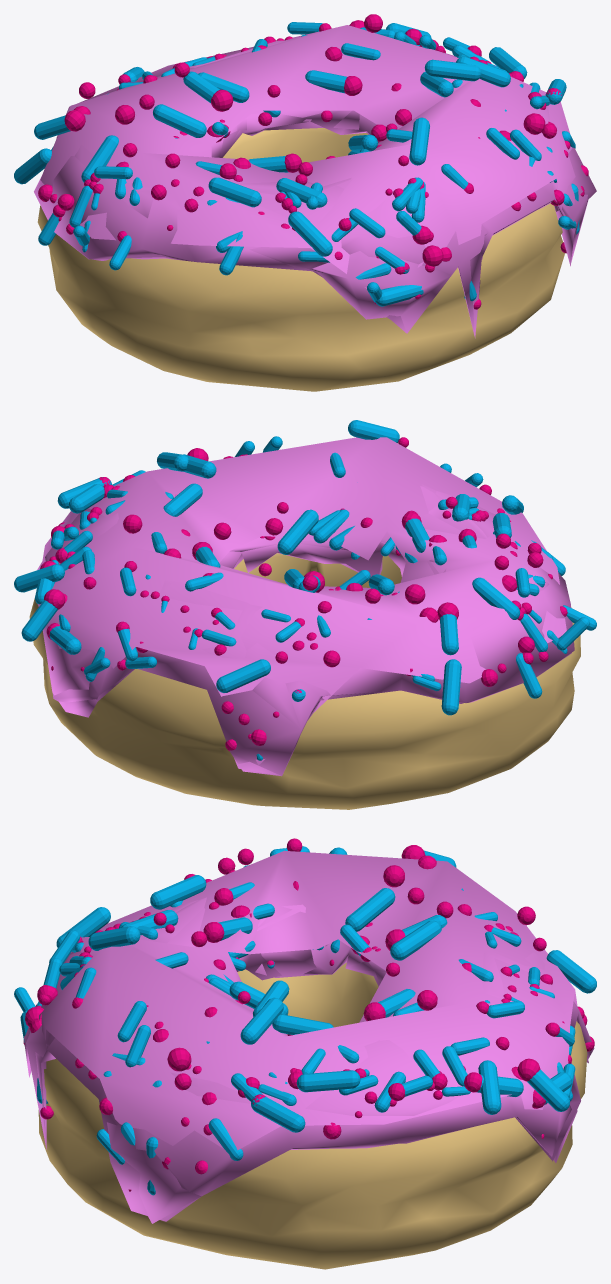
The model's file is Donut_LOD.fbx.
The picture shows the model from 3 angles, top to bottom: view 1: azimuth 30°, elevation 25°; view 2: azimuth 150°, elevation 25°; view 3: azimuth 270°, elevation 25°; orthographic projection. The views are drawn at different scales.
Visible parts, largest first — view 1: Icing.002, Donut_LOD0, Icing, Icing.001, Icing.002|Sphere|Dupli|18.1, Icing.002|Sphere|Dupli|9.1, Icing.002|Sphere|Dupli|20.1, Icing.002|Sphere|Dupli|7.1, Icing.002|Sphere|Dupli|21.1, Icing.002|Sphere|Dupli|3.1, Icing.002|Sphere|Dupli|4.1, Icing.002|Sphere|Dupli|19.1 (+9 smaller); view 2: Icing.002, Donut_LOD0, Icing, Icing.001, Icing.002|Sphere|Dupli|16.1, Icing.002|Sphere|Dupli|3.1, Icing.002|Sphere|Dupli|22.1, Icing.002|Sphere|Dupli|4.1, Icing.002|Sphere|Dupli|12.1, Icing.002|Sphere|Dupli|2.1, Icing.002|Sphere|Dupli|21.1, Icing.002|Sphere|Dupli|10.1 (+7 smaller); view 3: Icing.002, Donut_LOD0, Icing, Icing.001, Icing.002|Sphere|Dupli|1.1, Icing.002|Sphere|Dupli|7.1, Icing.002|Sphere|Dupli|24.1, Icing.002|Sphere|Dupli|18.1, Icing.002|Sphere|Dupli|15.1, Icing.002|Sphere|Dupli|23.1, Icing.002|Sphere|Dupli|16.1, Icing.002|Sphere|Dupli|12.1 (+7 smaller).
Boxes of the visible parts, x1,y1,x2,y2 form: Icing.002: [40, 25, 575, 288]; Donut_LOD0: [37, 128, 564, 391]; Icing: [34, 40, 596, 338]; Icing.001: [63, 76, 588, 336]; Icing.002|Sphere|Dupli|18.1: [153, 104, 206, 137]; Icing.002|Sphere|Dupli|9.1: [424, 59, 481, 81]; Icing.002|Sphere|Dupli|20.1: [288, 211, 332, 256]; Icing.002|Sphere|Dupli|7.1: [208, 177, 261, 207]; Icing.002|Sphere|Dupli|21.1: [409, 117, 429, 165]; Icing.002|Sphere|Dupli|3.1: [14, 148, 51, 184]; Icing.002|Sphere|Dupli|4.1: [81, 135, 118, 182]; Icing.002|Sphere|Dupli|19.1: [276, 178, 327, 207]; Icing.002: [37, 437, 566, 765]; Donut_LOD0: [29, 553, 580, 809]; Icing: [37, 486, 574, 775]; Icing.001: [52, 484, 571, 775]; Icing.002|Sphere|Dupli|16.1: [216, 659, 270, 692]; Icing.002|Sphere|Dupli|3.1: [441, 659, 461, 715]; Icing.002|Sphere|Dupli|22.1: [277, 509, 318, 554]; Icing.002|Sphere|Dupli|4.1: [472, 577, 520, 619]; Icing.002|Sphere|Dupli|12.1: [14, 564, 64, 592]; Icing.002|Sphere|Dupli|2.1: [21, 600, 57, 641]; Icing.002|Sphere|Dupli|21.1: [348, 420, 399, 442]; Icing.002|Sphere|Dupli|10.1: [163, 483, 202, 516]; Icing.002: [39, 850, 577, 1150]; Donut_LOD0: [38, 962, 587, 1269]; Icing: [24, 900, 594, 1221]; Icing.001: [26, 897, 588, 1223]; Icing.002|Sphere|Dupli|1.1: [296, 1070, 360, 1092]; Icing.002|Sphere|Dupli|7.1: [150, 875, 206, 909]; Icing.002|Sphere|Dupli|24.1: [251, 1095, 305, 1132]; Icing.002|Sphere|Dupli|18.1: [345, 888, 395, 931]; Icing.002|Sphere|Dupli|15.1: [390, 920, 441, 960]; Icing.002|Sphere|Dupli|23.1: [240, 997, 283, 1044]; Icing.002|Sphere|Dupli|16.1: [546, 950, 596, 993]; Icing.002|Sphere|Dupli|12.1: [478, 1060, 501, 1114].
Size of what is drawn, in the model's own units: 225 by 103 by 203.
